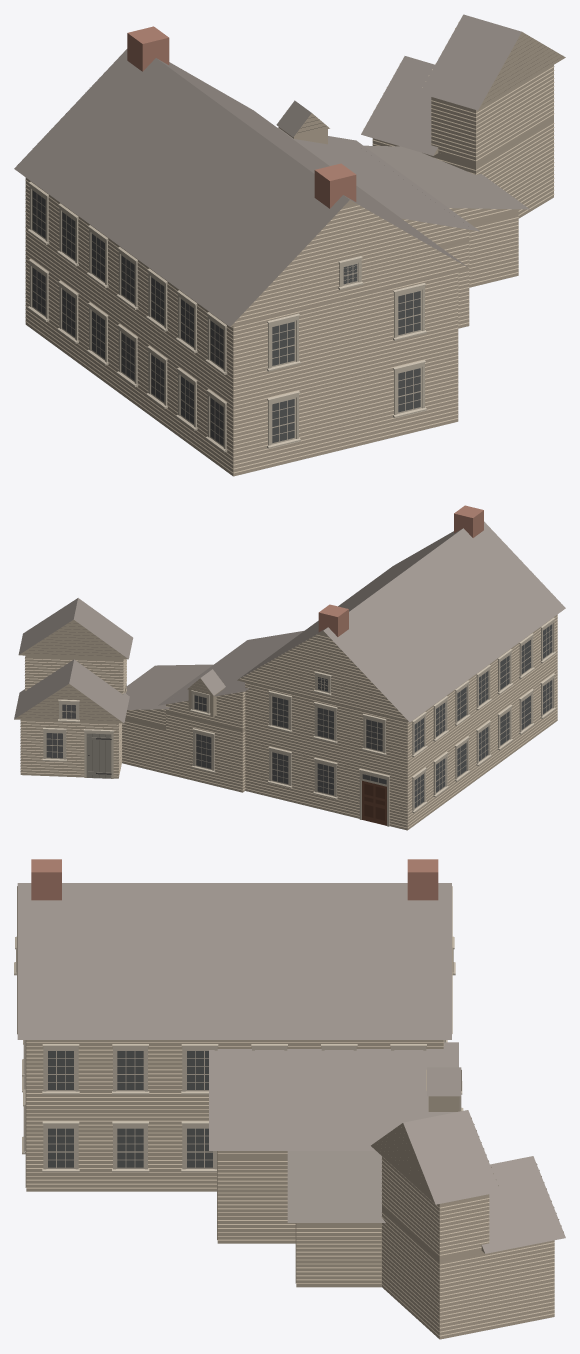
File: green_tree_tavern__frame_1833.glb
3 views of the same model, one above another, from view 1: azimuth 30°, elevation 25°; view 2: azimuth 150°, elevation 25°; view 3: azimuth 270°, elevation 25° (orthographic). The views are drawn at different scales.
Parts seen in each view (by area): view 1: green_tree_tavern__frame_1833; view 2: green_tree_tavern__frame_1833; view 3: green_tree_tavern__frame_1833.
Part boxes in pixels (x1,y1,x2,y2): green_tree_tavern__frame_1833: (14, 14, 565, 476); green_tree_tavern__frame_1833: (14, 505, 565, 830); green_tree_tavern__frame_1833: (14, 859, 565, 1339).
Size of the model in its own units: 18.43 by 8.72 by 16.12.
